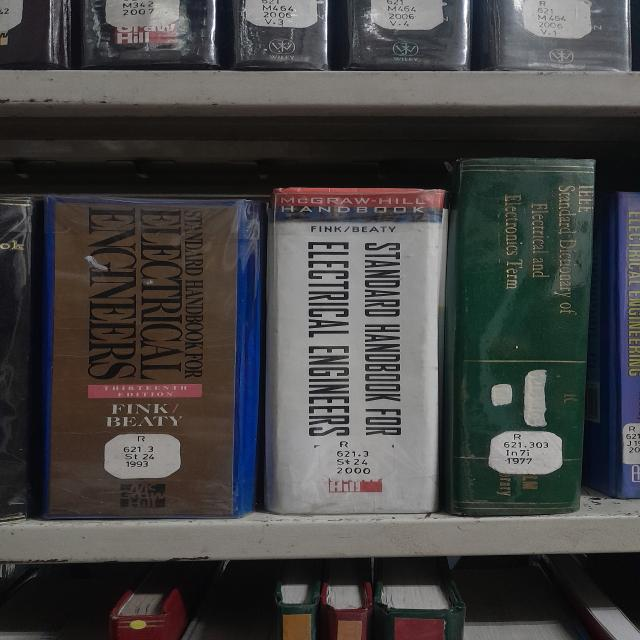book: (45, 196, 265, 518), (265, 188, 447, 514), (444, 158, 595, 517)
